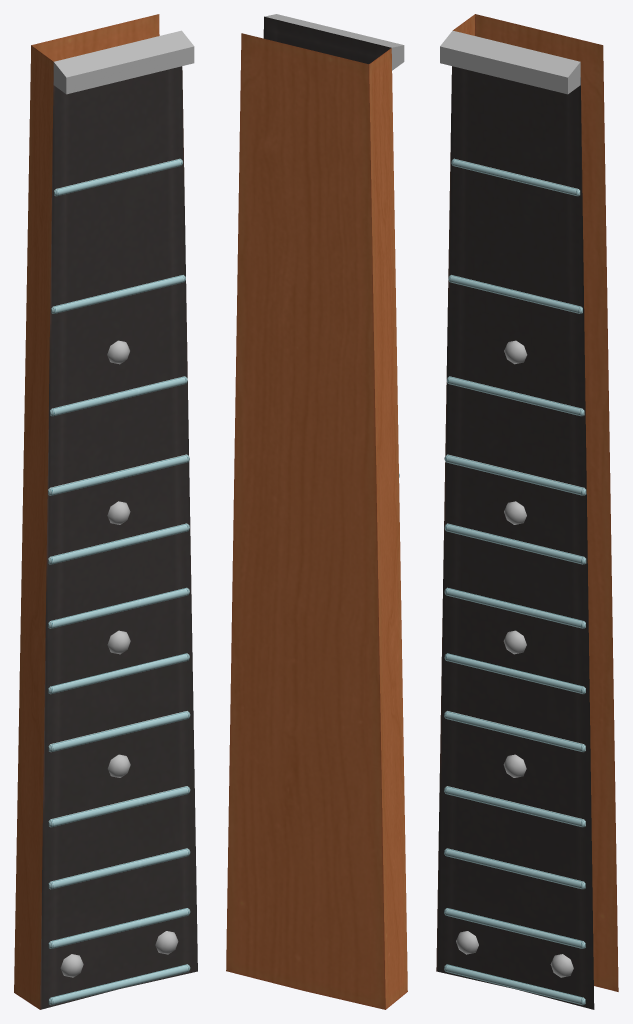
The model's file is Neck.fbx.
The picture shows the model from 3 angles, left to right: view 1: azimuth 30°, elevation 25°; view 2: azimuth 150°, elevation 25°; view 3: azimuth 330°, elevation 25°; orthographic projection.
Visible parts, largest first — view 1: polySurface156; view 2: polySurface156; view 3: polySurface156.
Part boxes in pixels (<box>): polySurface156: <box>14,14,197,1009</box>; polySurface156: <box>226,14,407,1009</box>; polySurface156: <box>436,14,618,1009</box>.
Bounding box in the file's own units: 7.39 × 41.69 × 2.92.
